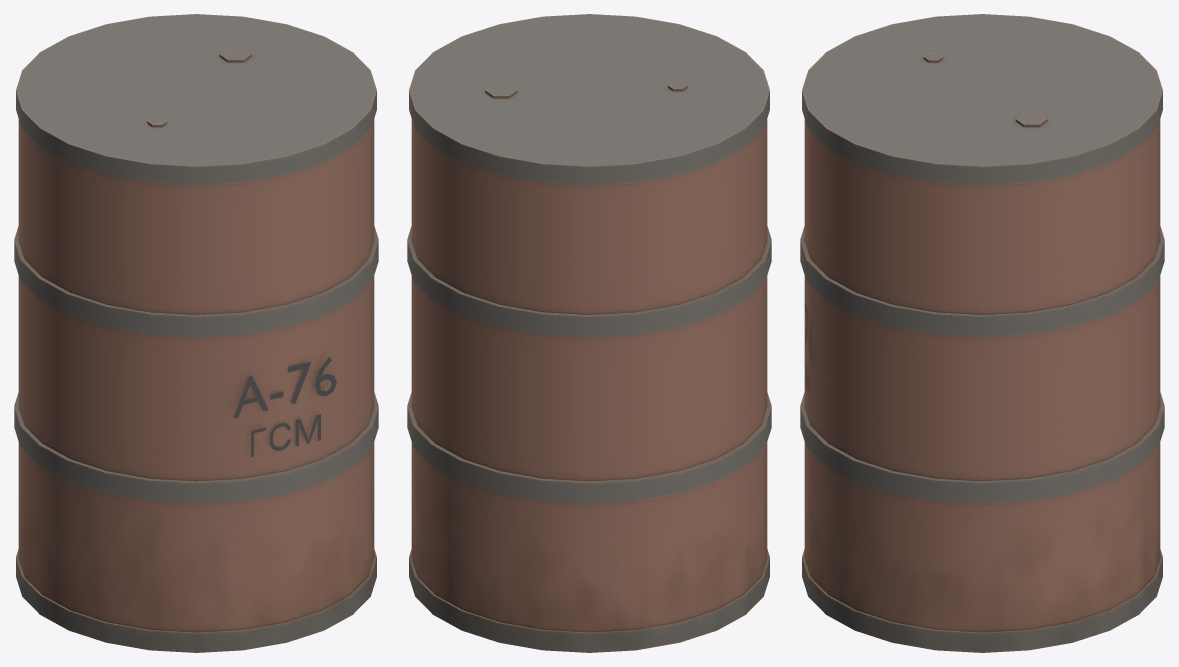
File: soviet_barrel.glb
3 renders of one model, left to right at view 1: azimuth 30°, elevation 25°; view 2: azimuth 150°, elevation 25°; view 3: azimuth 270°, elevation 25°, orthographic.
Visible parts, largest first — view 1: soviet_barrel; view 2: soviet_barrel; view 3: soviet_barrel.
Boxes of the visible parts, x1=… form: soviet_barrel: x1=14, y1=14, x2=378, y2=652; soviet_barrel: x1=407, y1=14, x2=771, y2=652; soviet_barrel: x1=800, y1=14, x2=1164, y2=652.
Bounding box in the file's own units: 0.5945 × 0.8795 × 0.5945.
Materials: 1 (1 with a texture image).
